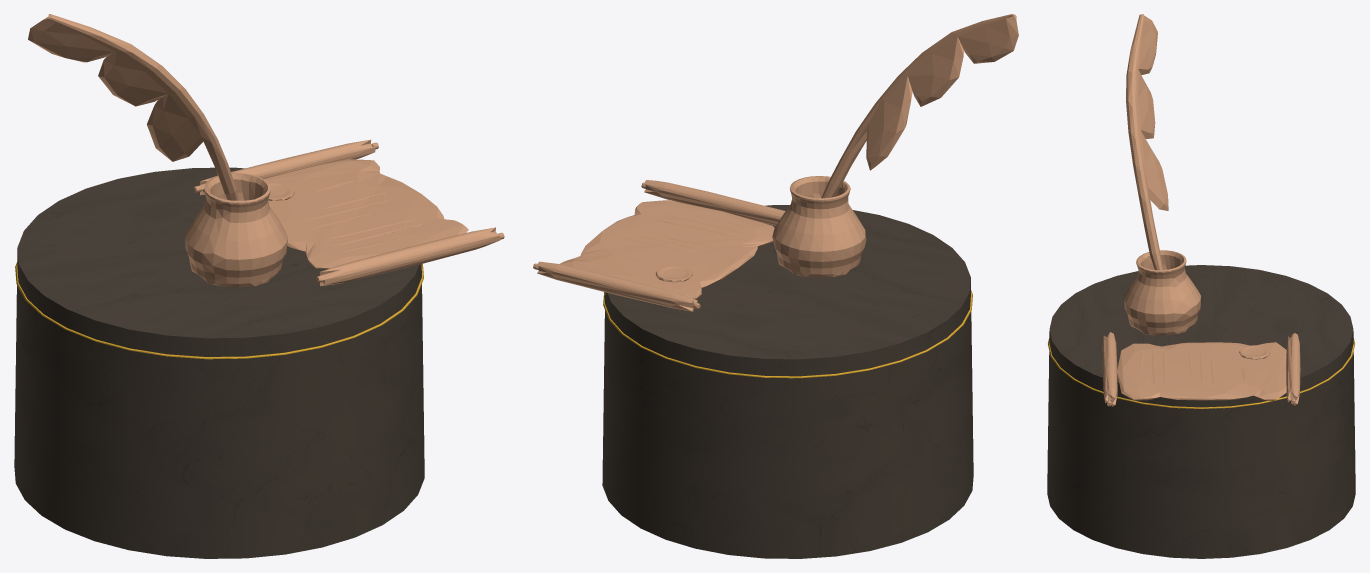
The model's file is literature.glb.
3 renders of one model, left to right at view 1: azimuth 30°, elevation 25°; view 2: azimuth 150°, elevation 25°; view 3: azimuth 270°, elevation 25°, orthographic. The views are drawn at different scales.
Visible parts, largest first — view 1: marble_column, literature__orient, gold_inlay_ring; view 2: marble_column, literature__orient, gold_inlay_ring; view 3: marble_column, literature__orient, gold_inlay_ring.
Boxes of the visible parts, x1=… form: marble_column: x1=14, y1=167, x2=424, y2=558; literature__orient: x1=28, y1=14, x2=504, y2=287; gold_inlay_ring: x1=15, y1=262, x2=423, y2=359; marble_column: x1=602, y1=205, x2=973, y2=558; literature__orient: x1=533, y1=14, x2=1018, y2=311; gold_inlay_ring: x1=603, y1=290, x2=972, y2=378; marble_column: x1=1047, y1=265, x2=1355, y2=558; literature__orient: x1=1102, y1=14, x2=1300, y2=406; gold_inlay_ring: x1=1048, y1=338, x2=1354, y2=408.
Size of the model in its own units: 0.537 by 0.6204 by 0.4302.
Materials: 10 (1 with a texture image).
